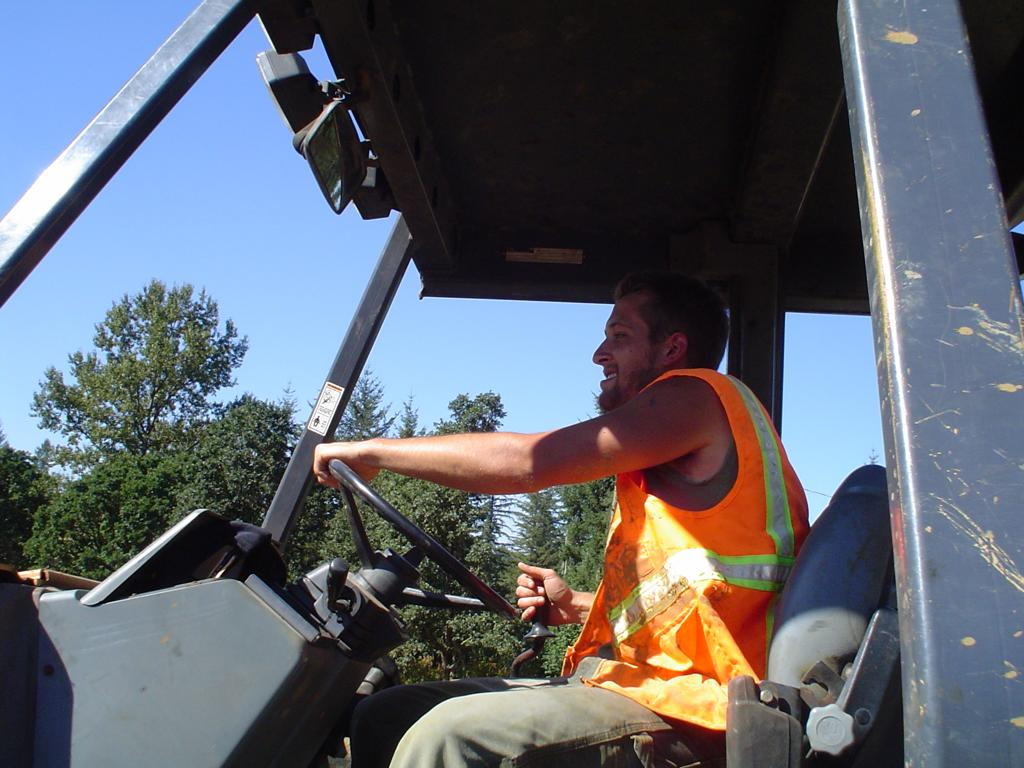face: (598, 278, 684, 400)
